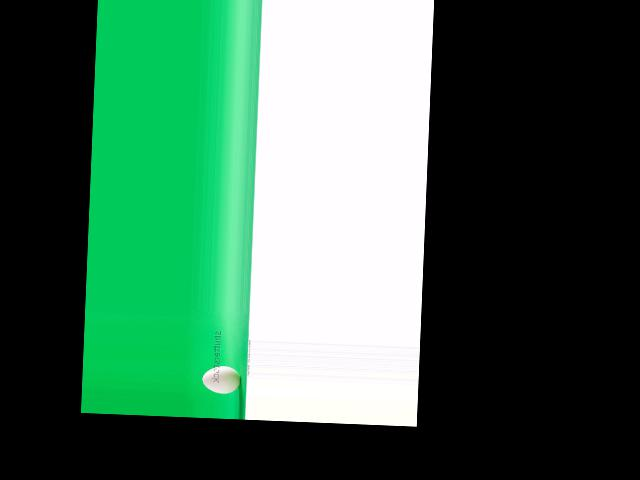egg: (202, 365, 241, 394)
